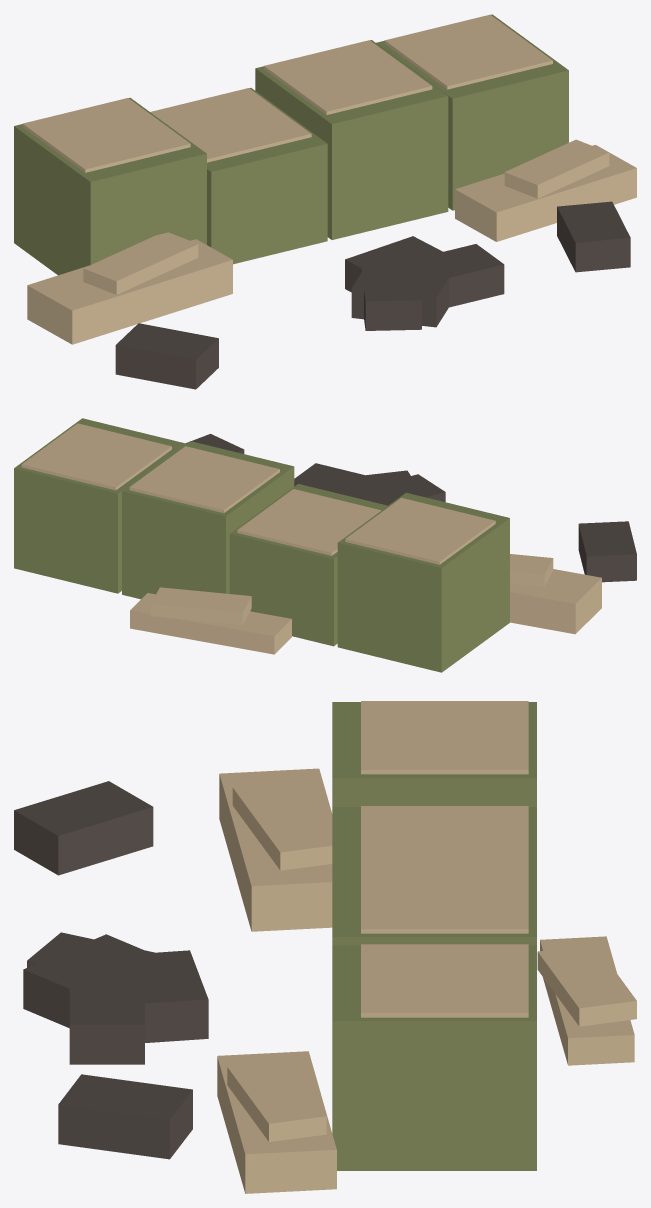
File: SM_HescoCorto4_v2_Escalonado_e2_MuyDanado_LOD1.fbx
The picture shows the model from 3 angles, top to bottom: view 1: azimuth 30°, elevation 25°; view 2: azimuth 150°, elevation 25°; view 3: azimuth 270°, elevation 25°; orthographic projection. The views are drawn at different scales.
Visible parts, largest first — view 1: SM_hesco_piezas_v110_LOD1; view 2: SM_hesco_piezas_v110_LOD1; view 3: SM_hesco_piezas_v110_LOD1.
Part boxes in pixels (x1,y1,x2,y2): SM_hesco_piezas_v110_LOD1: (14, 14, 636, 389); SM_hesco_piezas_v110_LOD1: (14, 418, 636, 672); SM_hesco_piezas_v110_LOD1: (14, 701, 636, 1193).
Bounding box in the file's own units: 5.36 × 1.06 × 3.71.
